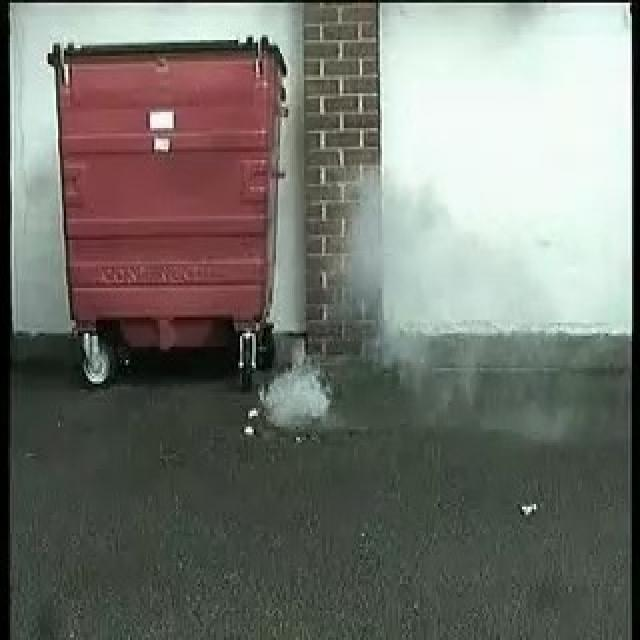smoke: (262, 191, 416, 422)
